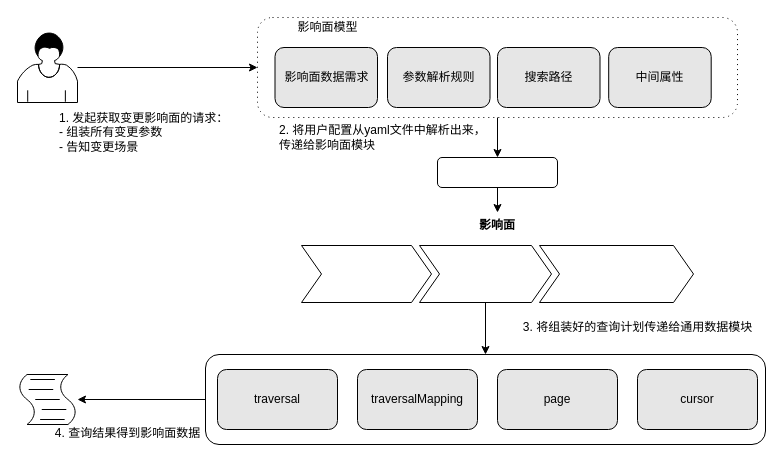
This 783x462 diagram has some shape labels left out. The shapes that lost their labels are listed below. From the top down, each one's centre as x and y in pixels, then its label:
At pixel 497 172: "影响面数据模型".
At pixel 366 273: "补全默认配置".
At pixel 485 273: "数据源路由选择".
At pixel 616 273: "组装优化查询计划".
